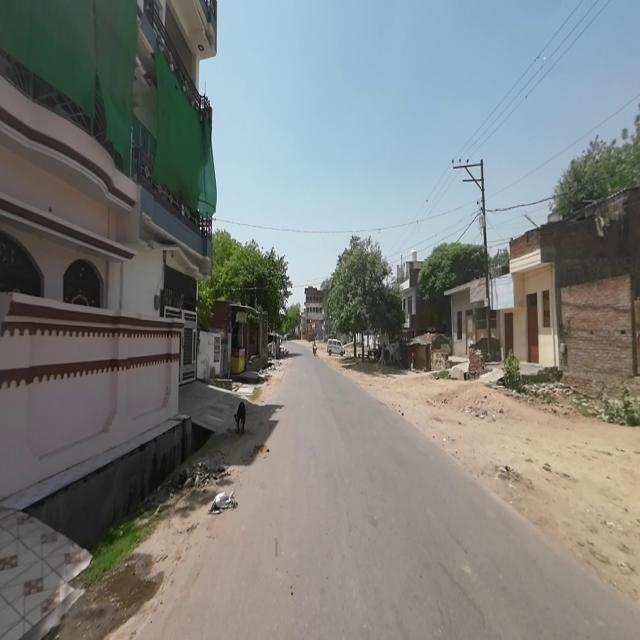Garbage: (184, 460, 231, 486), (208, 492, 236, 514)
